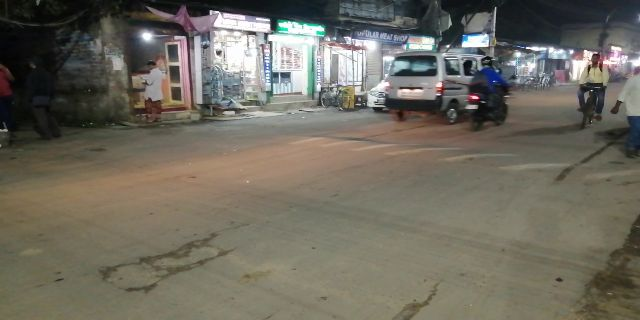Motorbike: (467, 54, 508, 127)
Van: (379, 47, 479, 121)
